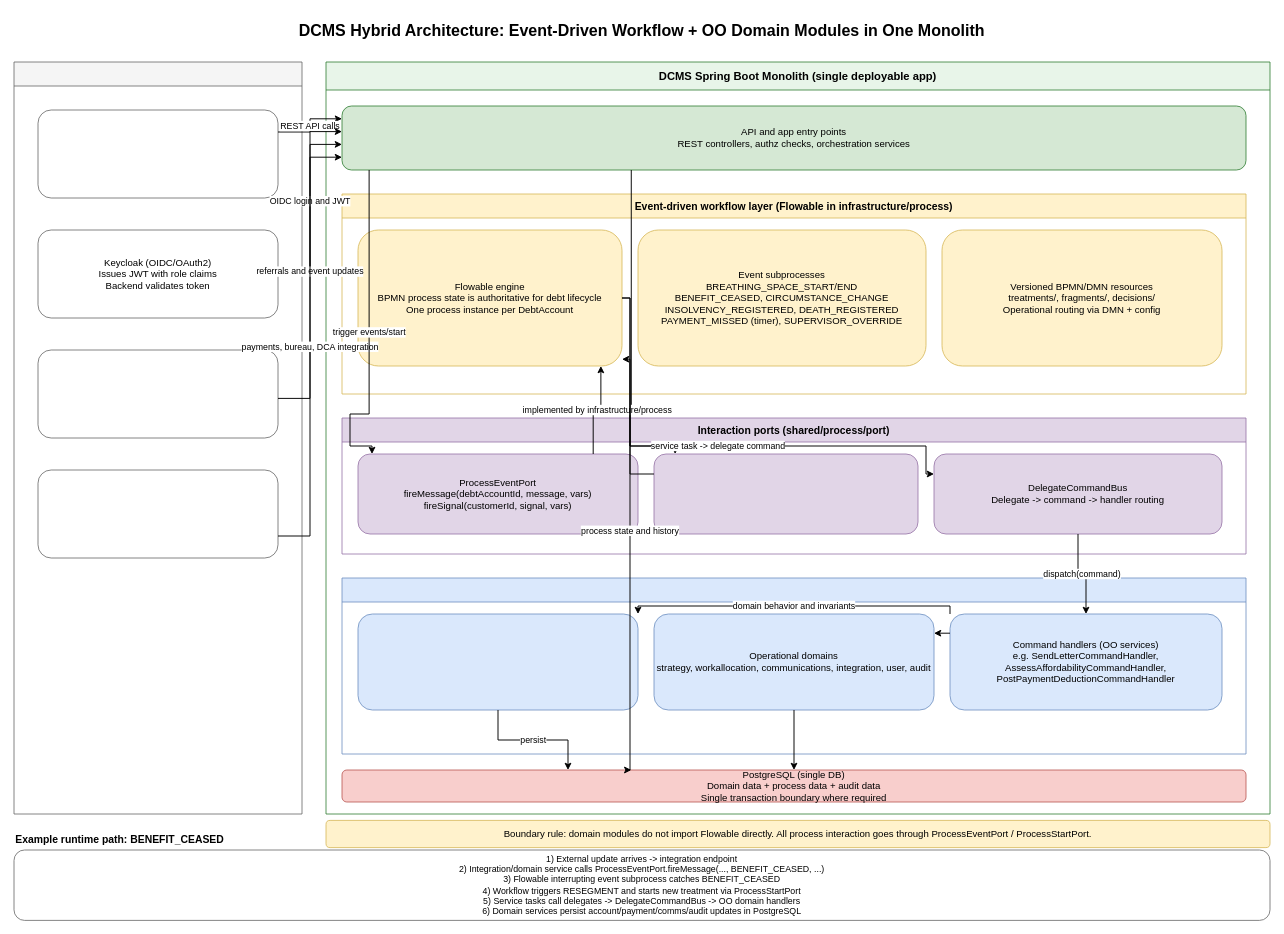
The diagram is 1284 pixels wide and 934 high, and some of its shapes have lost their labels. The box of each missing label's shape, as (x1, y1, x2, y2) in pixels:
Core domains customer, account, repaymentplan, payment: (357, 613, 638, 710)
DWP source systems (DWP Place, DM6) Send debt referrals and event updates: (37, 349, 278, 438)
External partners Payment gateway, bureau feeds, DCA: (37, 469, 278, 558)
Frontend (React + GOV.UK) Agent and supervisor screens Calls backend REST APIs: (37, 109, 278, 198)
Object-oriented domain modules (business logic + invariants + persistence): (341, 577, 1246, 754)
Outside the monolith: (13, 61, 302, 814)
ProcessStartPort startTreatment(debtAccountId, segmentCode): (653, 453, 918, 534)
